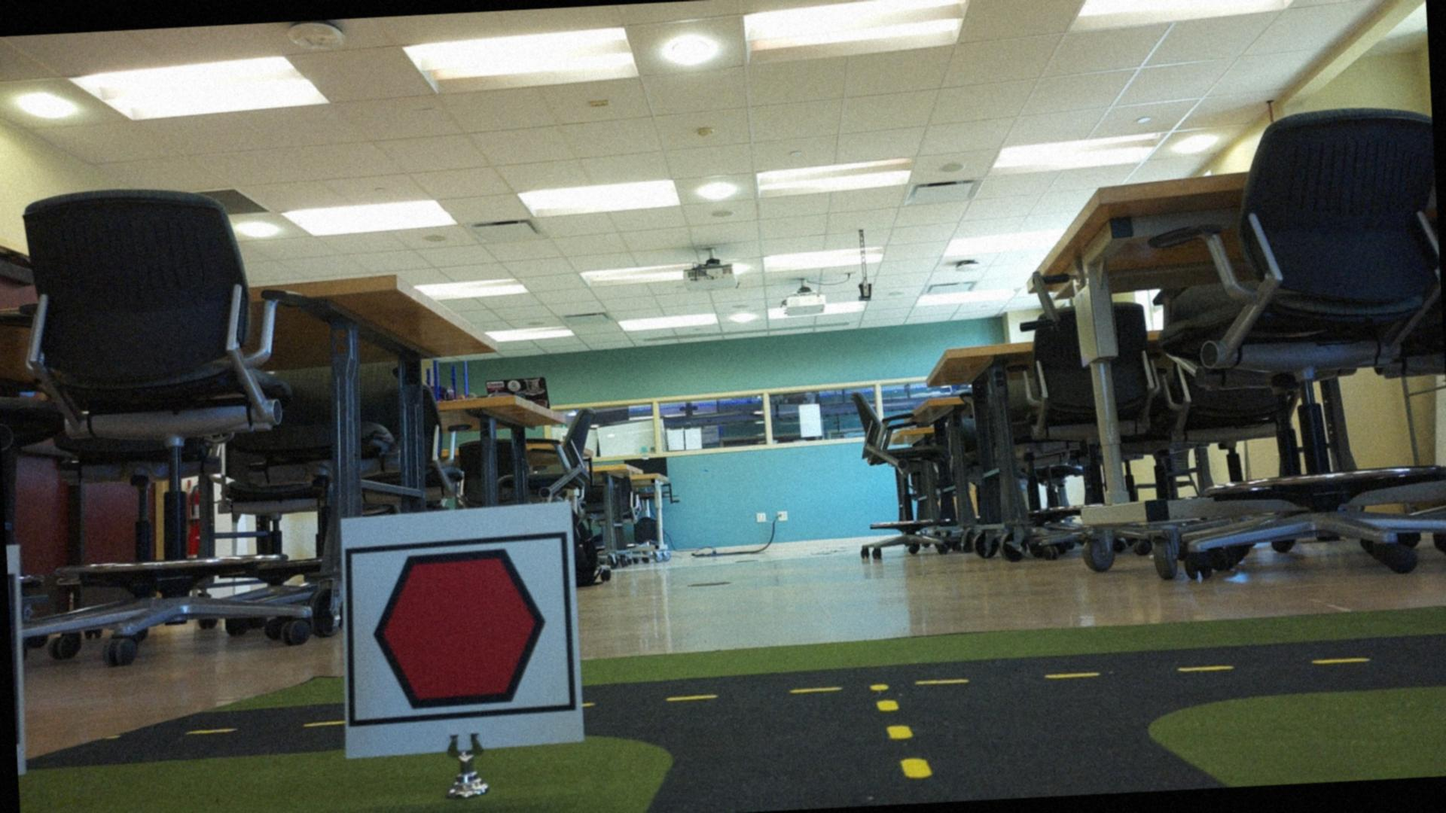stop: (355, 539, 563, 719)
yellowline: (873, 677, 932, 785)
